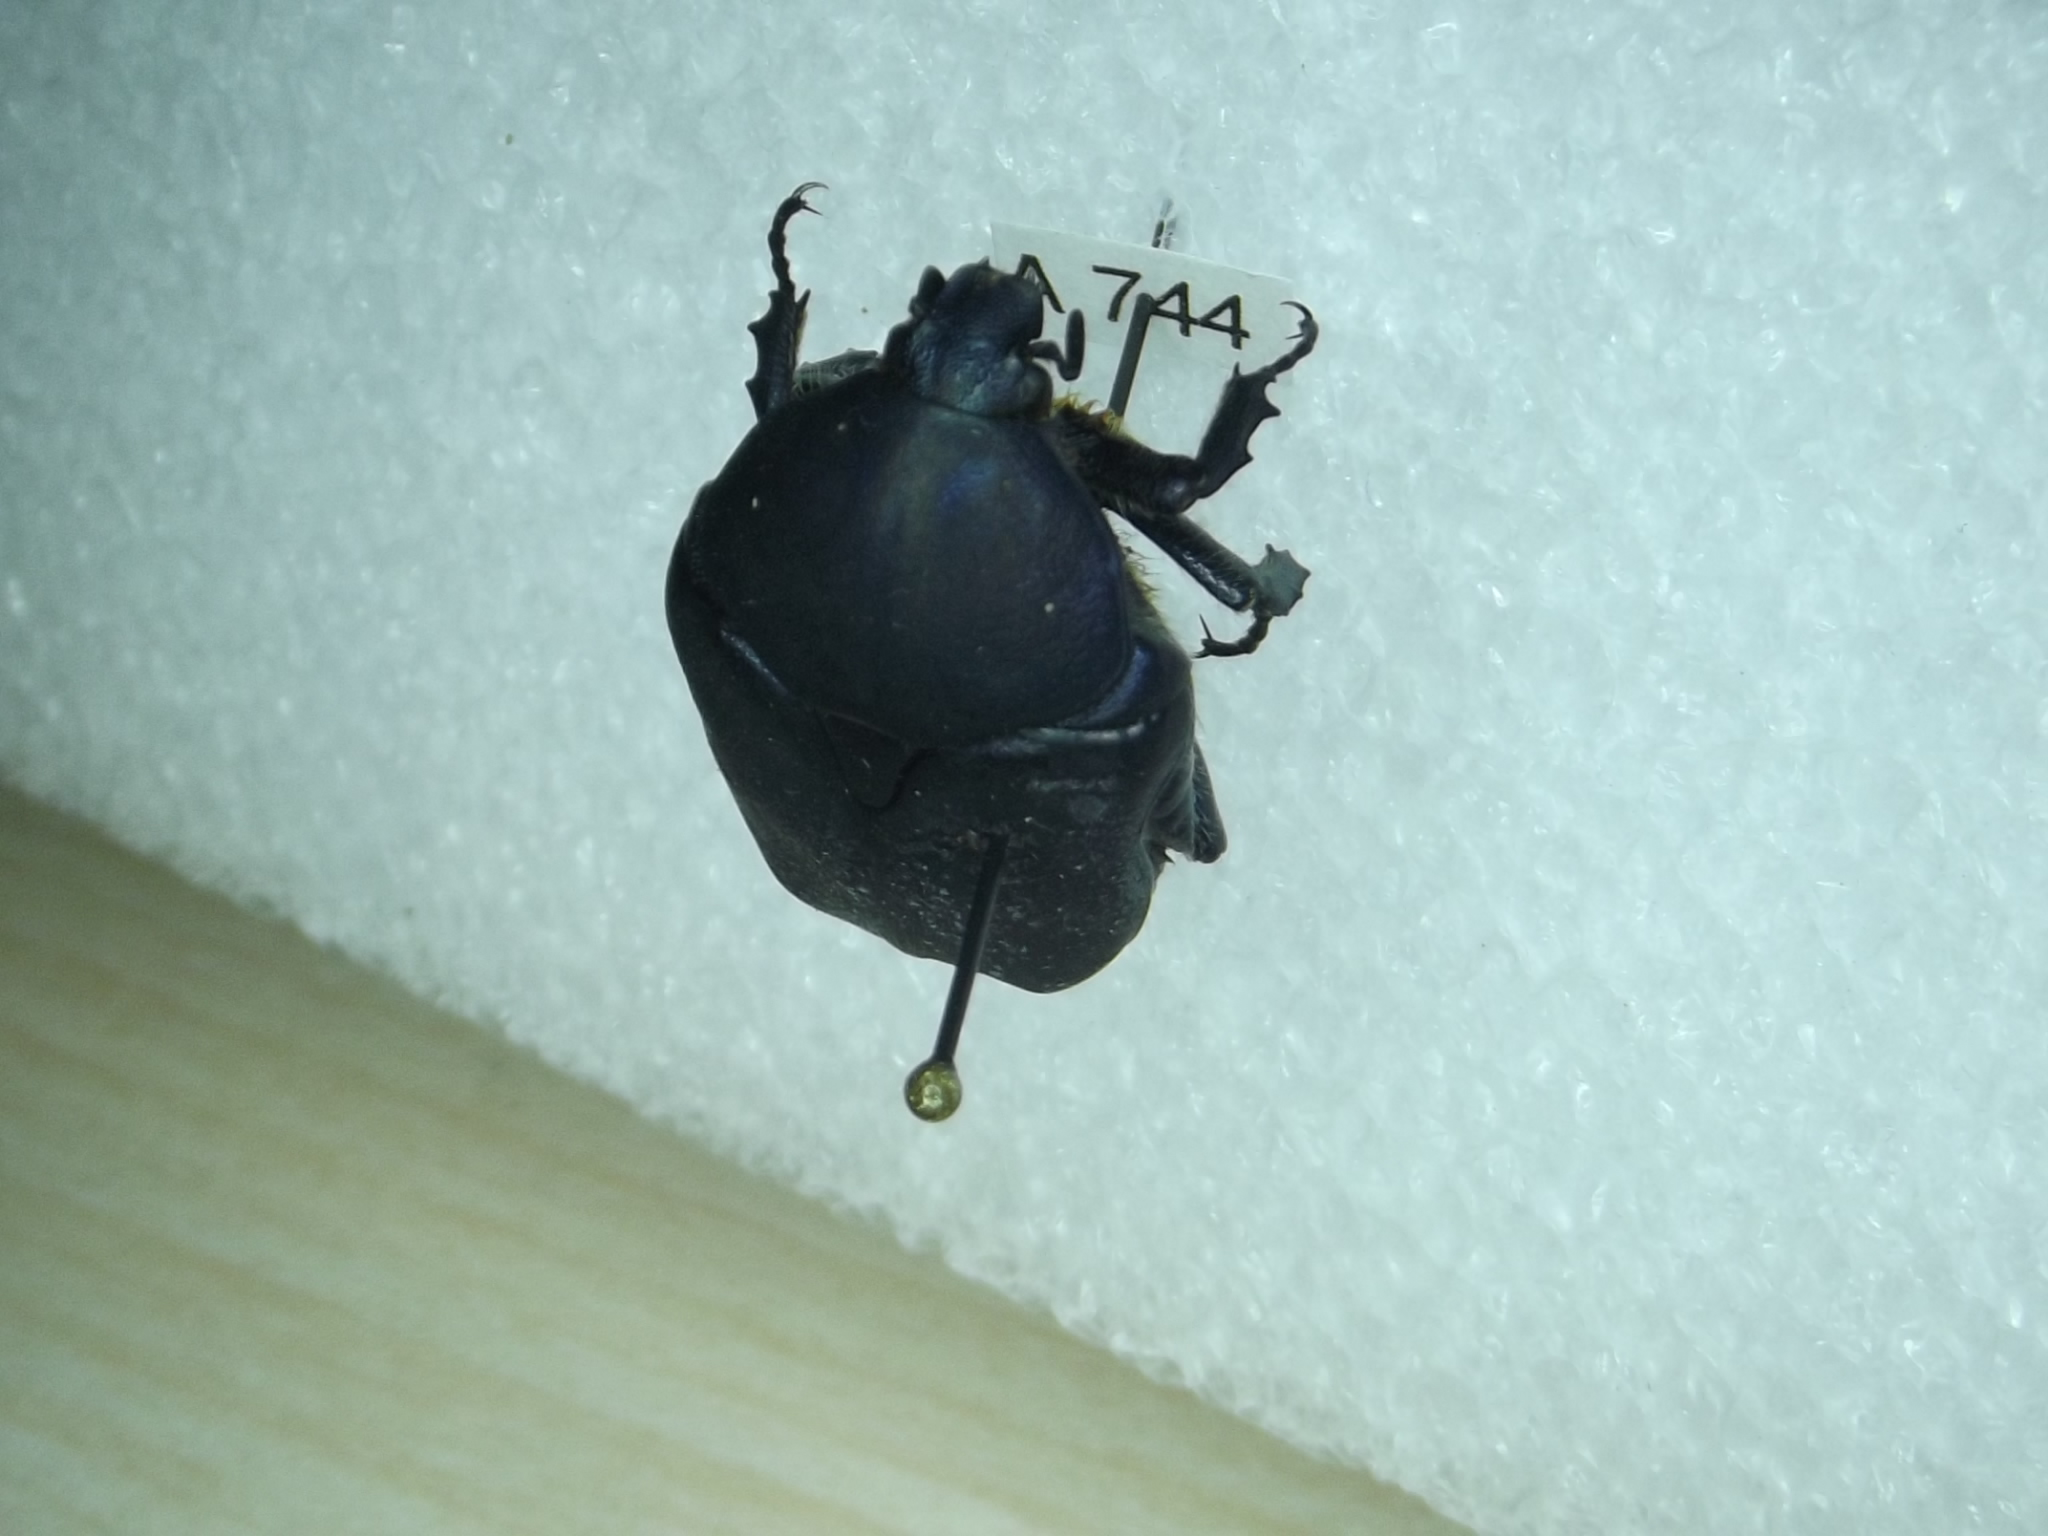Protaetia_afflicta: (664, 173, 1347, 1020)
